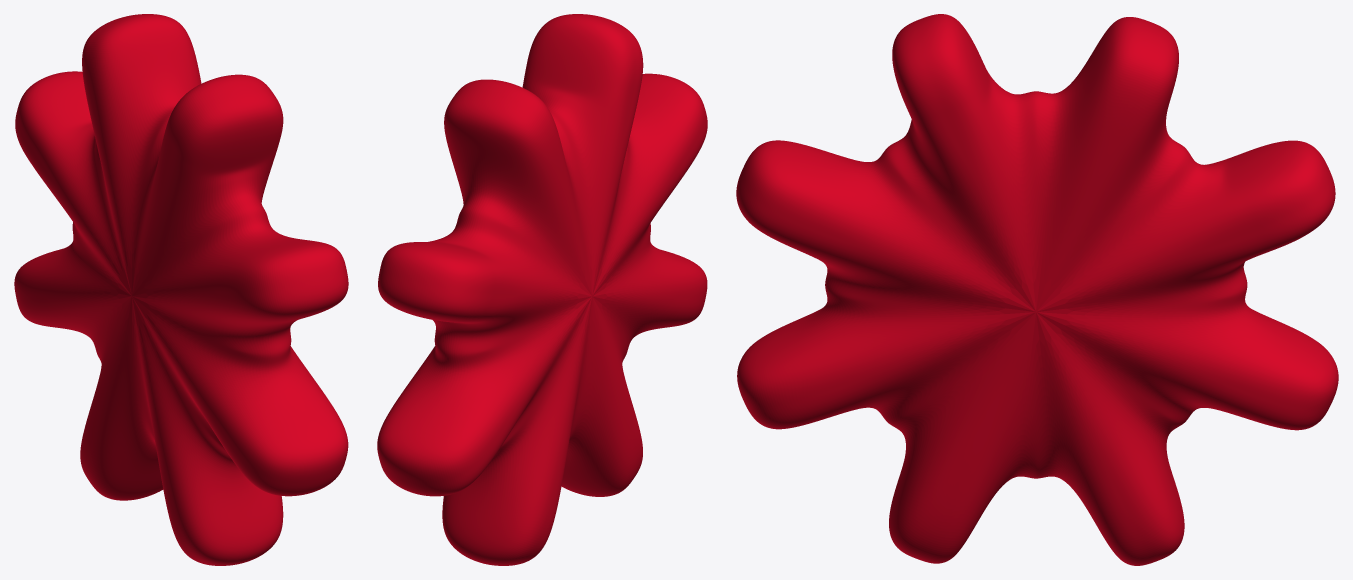
Rendered from gear3.fbx.
3 views of the same model, side by side, from view 1: azimuth 30°, elevation 25°; view 2: azimuth 150°, elevation 25°; view 3: azimuth 270°, elevation 25° (orthographic). The views are drawn at different scales.
Visible parts, largest first — view 1: Cylinder; view 2: Cylinder; view 3: Cylinder.
Boxes of the visible parts, left/top/right/bottom form: Cylinder: left=14, top=14, right=348, bottom=565; Cylinder: left=377, top=14, right=707, bottom=565; Cylinder: left=736, top=14, right=1338, bottom=565.
Size of the model in its own units: 57.85 by 263 by 269.
